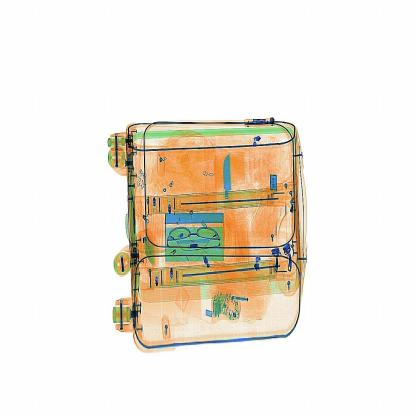wrench: (219, 150, 239, 226)
